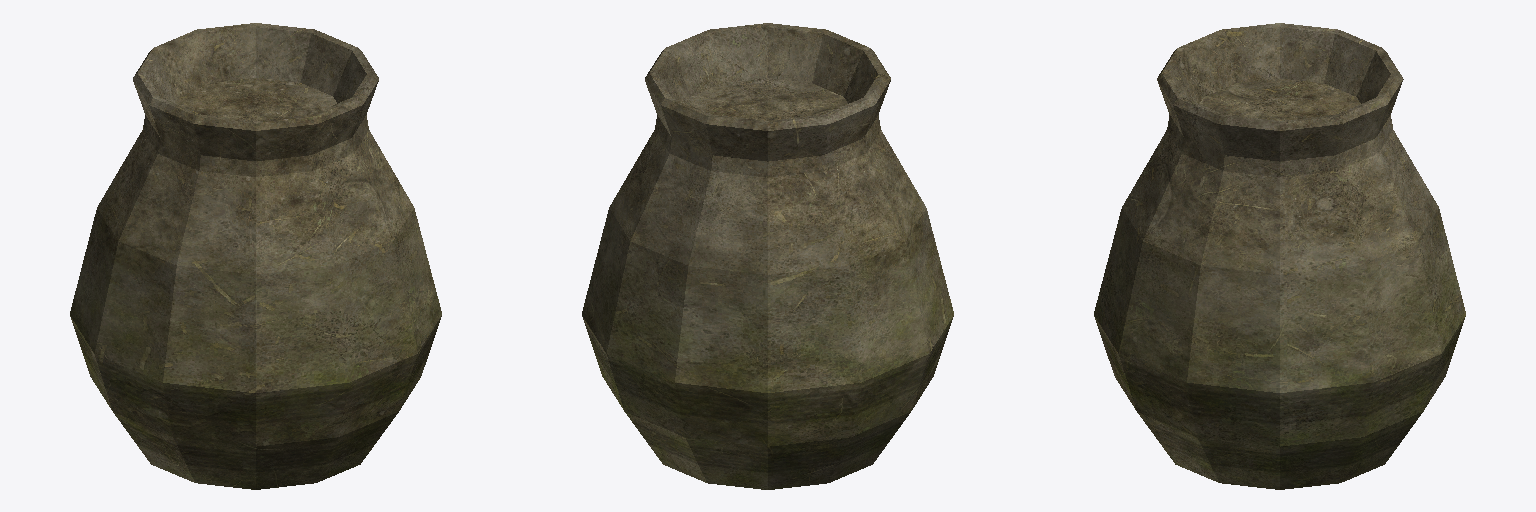
3 views of the same model, side by side, from view 1: azimuth 30°, elevation 25°; view 2: azimuth 150°, elevation 25°; view 3: azimuth 270°, elevation 25° (orthographic).
Parts seen in each view (by area): view 1: polySurface5064_polySurfaceShape5081; view 2: polySurface5064_polySurfaceShape5081; view 3: polySurface5064_polySurfaceShape5081.
Boxes of the visible parts, <box> form: polySurface5064_polySurfaceShape5081: <box>70,23,441,489</box>; polySurface5064_polySurfaceShape5081: <box>582,23,953,489</box>; polySurface5064_polySurfaceShape5081: <box>1094,23,1465,489</box>.
Bounding box in the file's own units: 1.2 × 1.3 × 1.2.
Materials: 1 (1 with a texture image).